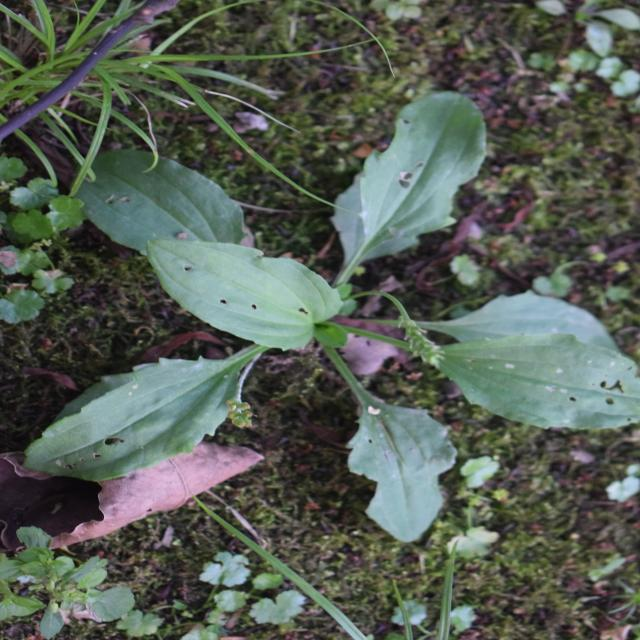plantain: (147, 43, 503, 569)
